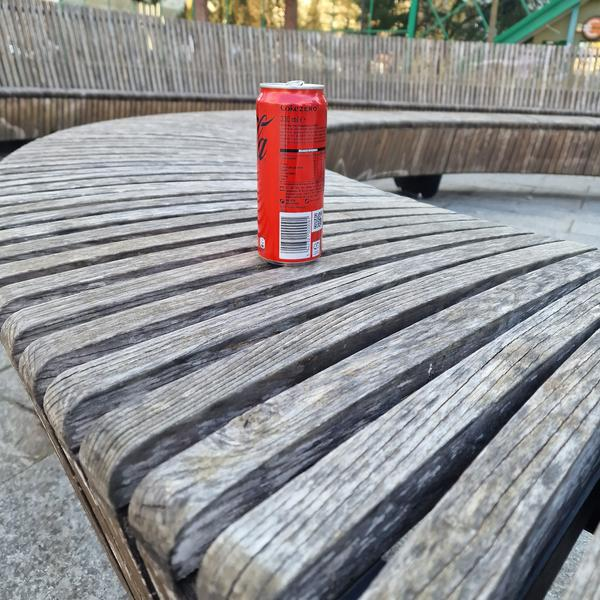can: (257, 80, 327, 267)
